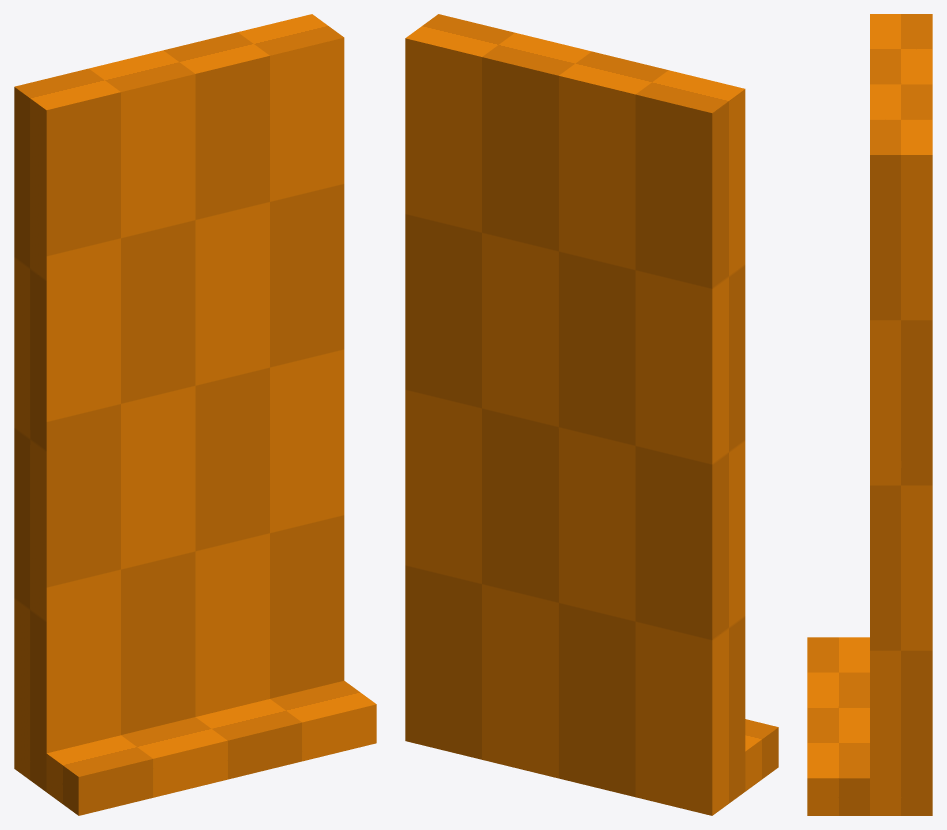
Rendered from TallBarricade.gltf.
3 renders of one model, left to right at view 1: azimuth 30°, elevation 25°; view 2: azimuth 150°, elevation 25°; view 3: azimuth 270°, elevation 25°, orthographic. The views are drawn at different scales.
Visible parts, largest first — view 1: TallBarricade12; view 2: TallBarricade12; view 3: TallBarricade12.
Part boxes in pixels (<box>): TallBarricade12: <box>14,14,376,815</box>; TallBarricade12: <box>405,14,778,815</box>; TallBarricade12: <box>807,14,932,815</box>.
Bounding box in the file's own units: 2 × 4.38 × 0.75.
Materials: 1 (1 with a texture image).
